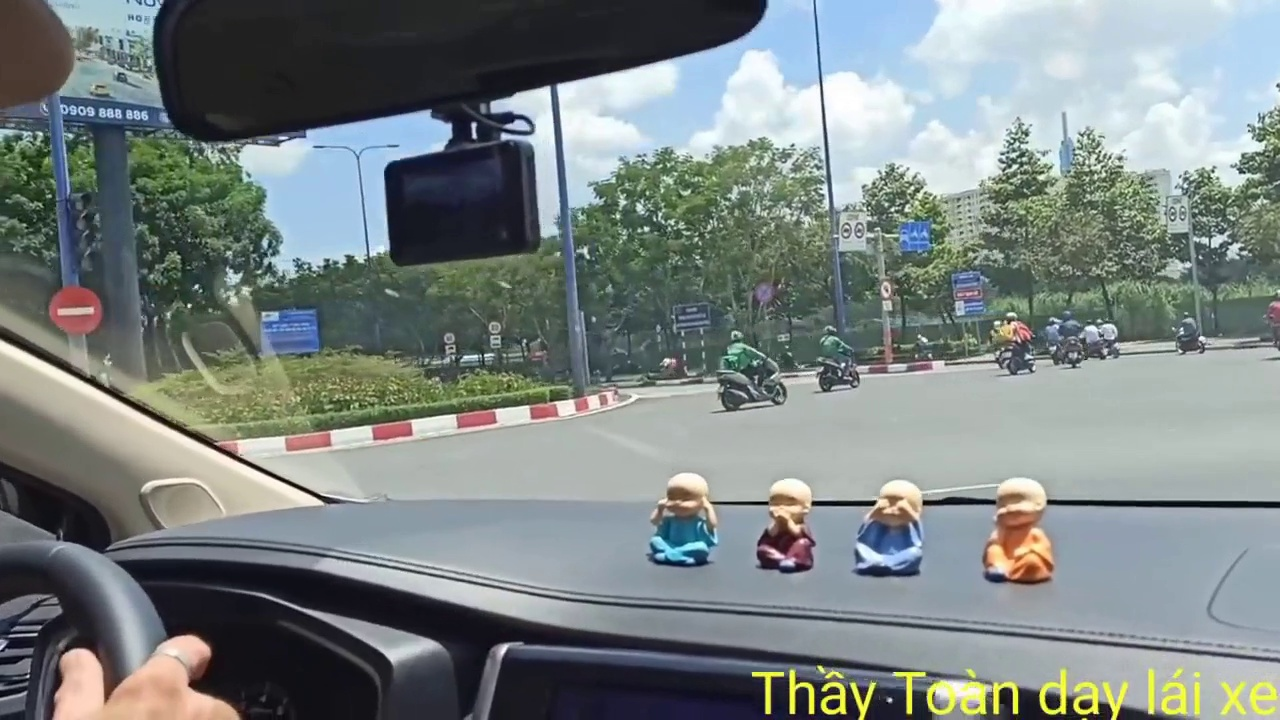Cấm các phương tiện quy định theo khung giờ: (1156, 190, 1195, 234), (835, 207, 870, 256)
Cấm dừng - Cấm đỗ: (753, 282, 774, 305)
Cấm đi ngược chiều: (41, 276, 106, 336)
Giới hạn tốc độ: 60: (439, 328, 455, 345)
Giới hạn tốc độ: 80: (482, 314, 507, 335)
Làn đường cho từng xe: (899, 216, 936, 260)
